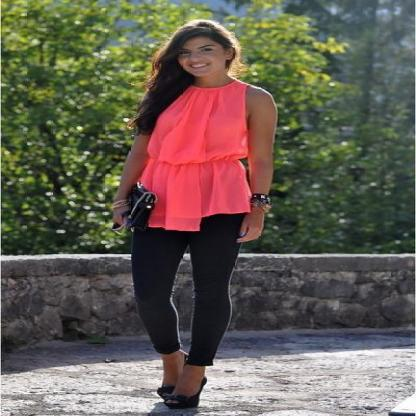bag: (122, 184, 154, 236)
pants: (118, 213, 246, 366)
shirt: (137, 80, 251, 231)
